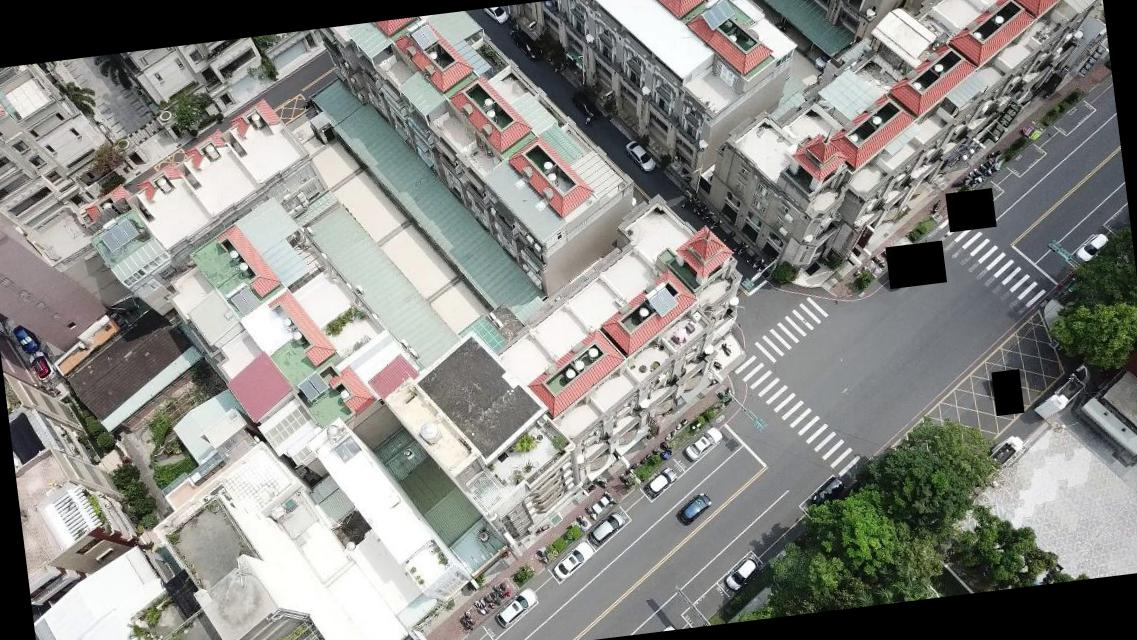vehicle: (492, 586, 542, 628), (550, 541, 596, 580), (682, 425, 725, 462), (720, 555, 762, 592), (586, 509, 628, 546), (509, 23, 546, 64), (674, 491, 715, 527), (642, 465, 680, 499), (622, 138, 656, 174), (808, 476, 846, 508), (1072, 232, 1112, 262), (26, 348, 56, 384), (570, 89, 599, 122), (13, 323, 39, 356), (482, 6, 514, 27)
